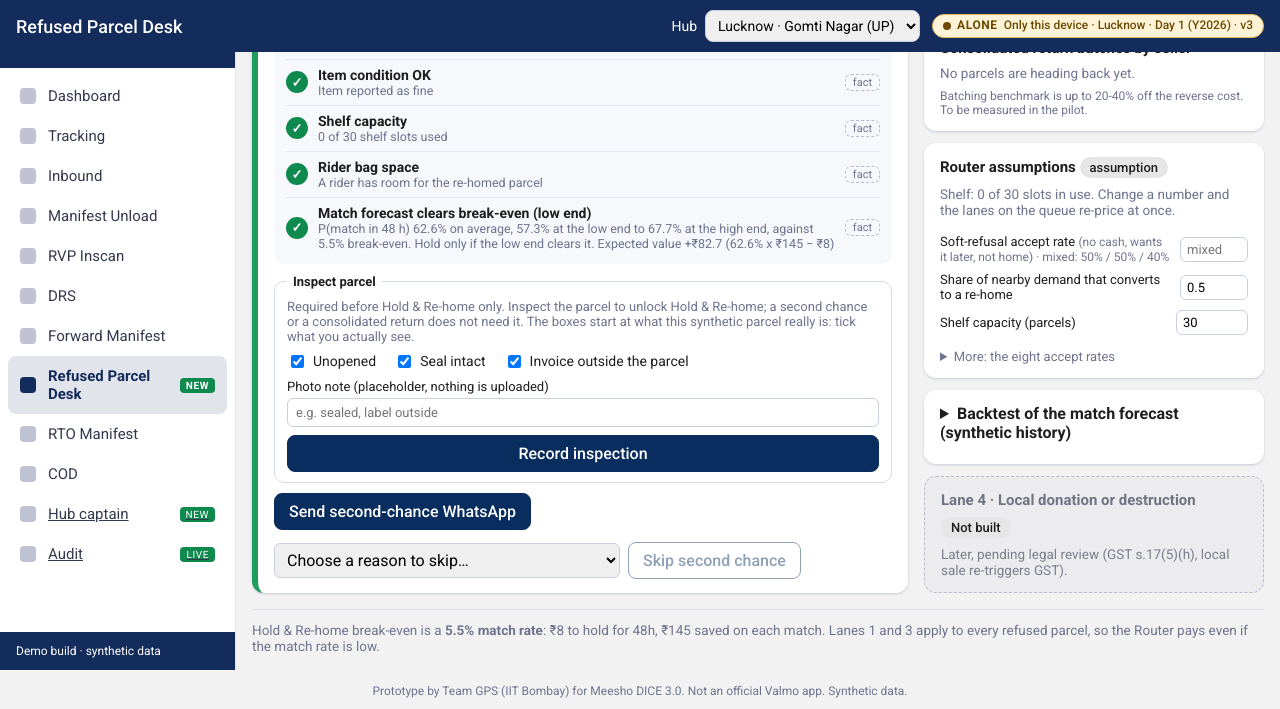
desk: skip the second chance › offers four reasons, logs the skip, sends no message and moves the parcel on
The width and height of the screenshot is (1280, 709).
(page scrolled)
Expected: the button "Skip second chance" is disabled, top-left (628, 542), bottom-right (801, 579)
Select "Customer not reachable" in the dropdown named "Why skip the second chance?" at (447, 560), box top-left (274, 543), bottom-right (620, 578)
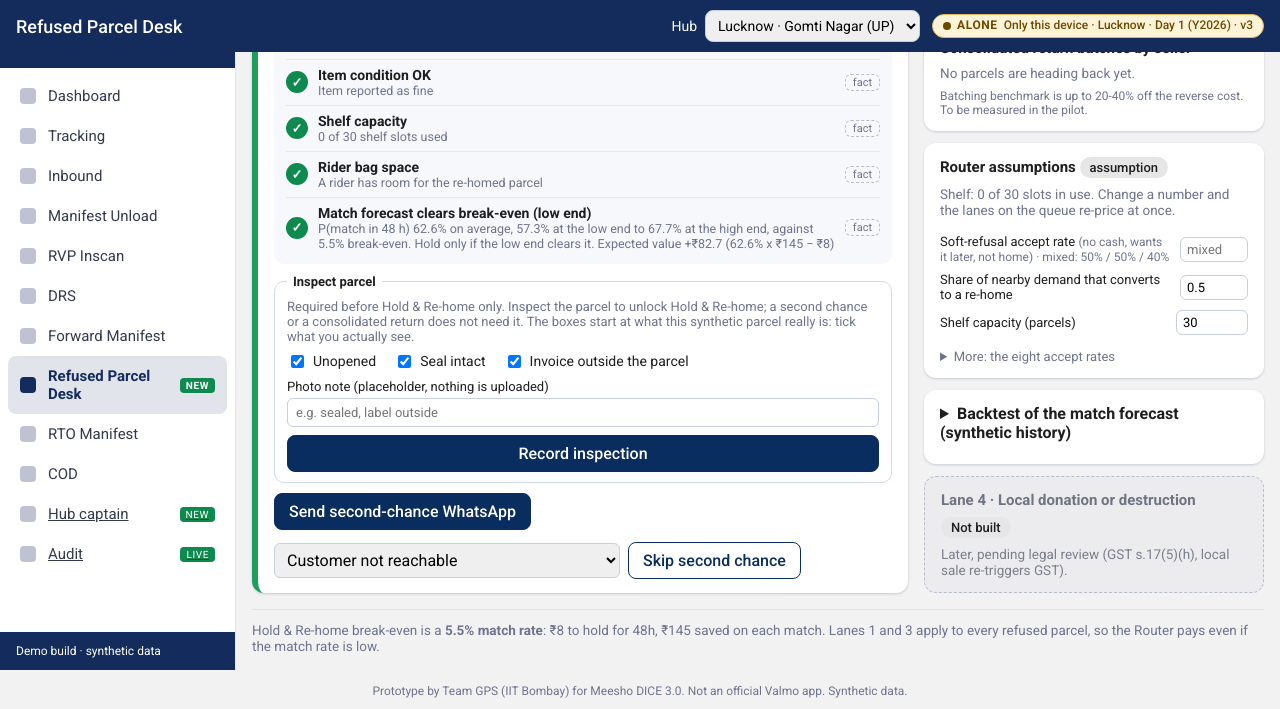
Expected: the button "Skip second chance" is enabled
Click the button "Skip second chance" at (714, 560), box top-left (628, 542), bottom-right (801, 579)
(page scrolled)
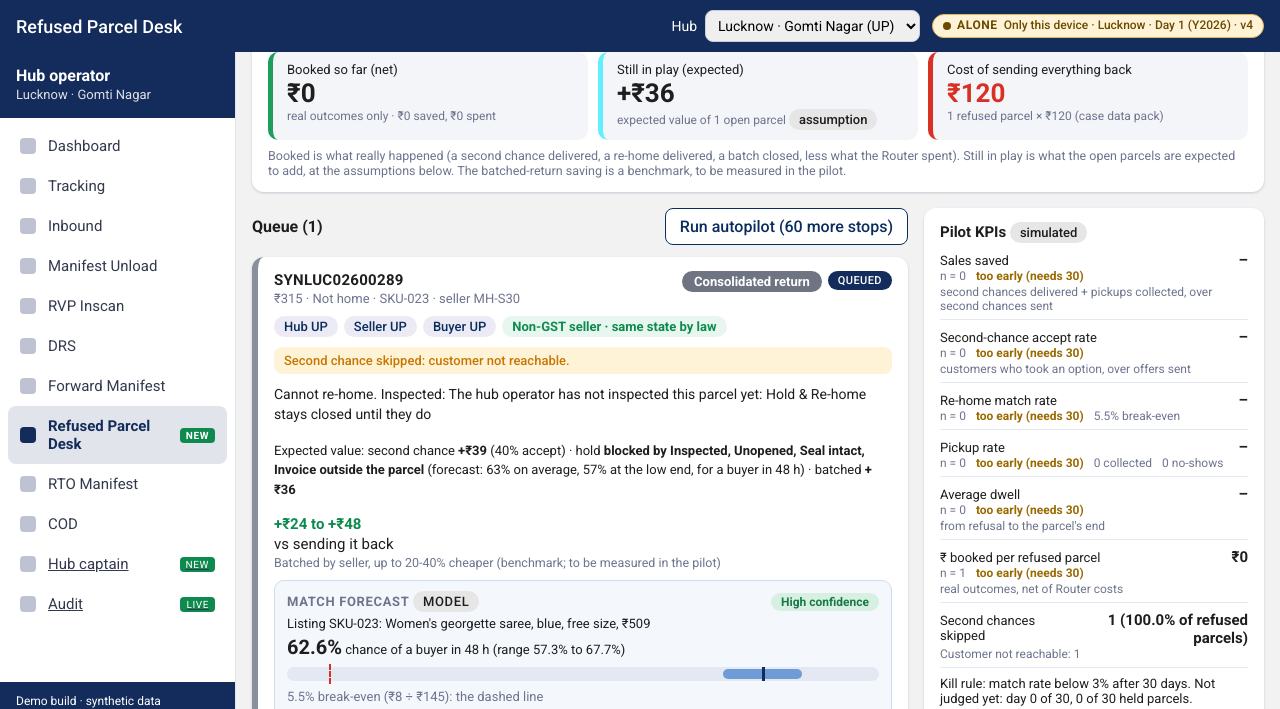
Expected: the button "Send second-chance WhatsApp" is gone
Expected: the text "Second chance skipped: customer not reachable." is shown, top-left (274, 347), bottom-right (892, 374)
